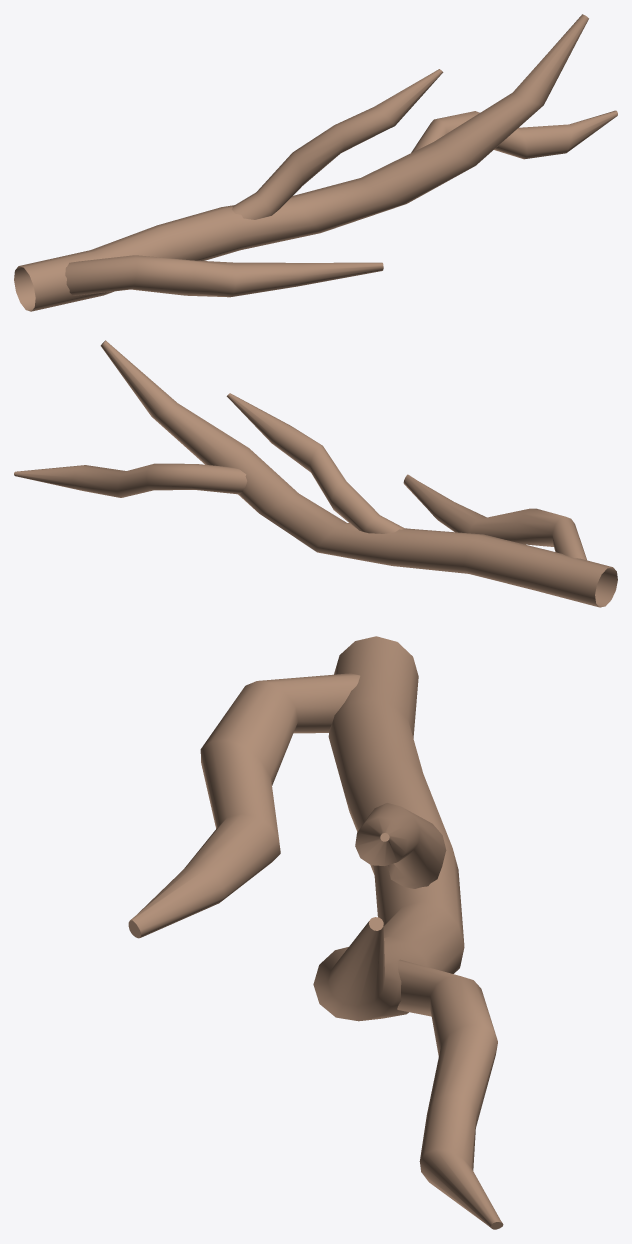
File: tree.fbx
The picture shows the model from 3 angles, top to bottom: view 1: azimuth 30°, elevation 25°; view 2: azimuth 150°, elevation 25°; view 3: azimuth 270°, elevation 25°; orthographic projection. The views are drawn at different scales.
Parts seen in each view (by area): view 1: tree, branch3, branch1, branch2; view 2: tree, branch2, branch3, branch1; view 3: tree, branch3, branch2, branch1.
Boxes of the visible parts, x1,y1,x2,y2 form: tree: [14, 14, 588, 311]; branch3: [65, 255, 383, 297]; branch1: [232, 69, 443, 219]; branch2: [411, 110, 617, 159]; tree: [100, 340, 617, 607]; branch2: [14, 463, 247, 497]; branch3: [403, 474, 586, 560]; branch1: [226, 393, 405, 533]; tree: [313, 636, 464, 1021]; branch3: [128, 673, 360, 938]; branch2: [397, 959, 503, 1229]; branch1: [355, 803, 446, 888].
Size of the model in its own units: 0.3058 by 0.0758 by 0.0883.
